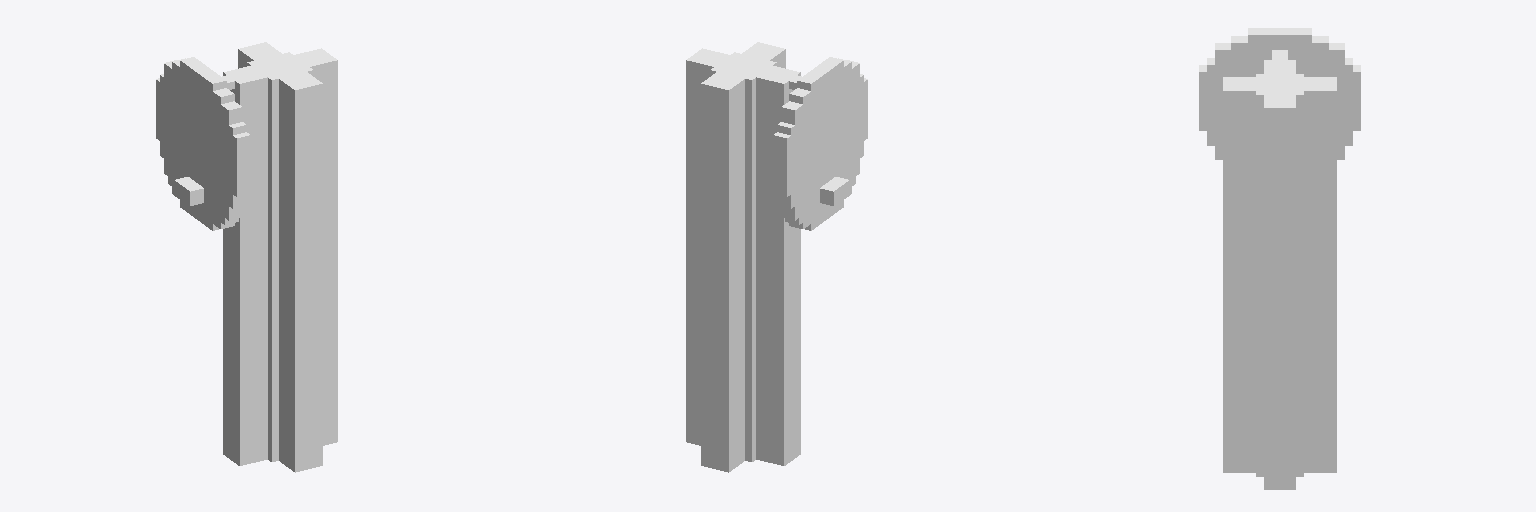
File: pressuredevice.obj
The picture shows the model from 3 angles: view 1: azimuth 30°, elevation 25°; view 2: azimuth 150°, elevation 25°; view 3: azimuth 270°, elevation 25°; orthographic projection.
Visible parts, largest first — view 1: object 1; view 2: object 1; view 3: object 1.
Part boxes in pixels (x1,y1,x2,y2): object 1: (156, 42, 337, 472); object 1: (686, 42, 867, 472); object 1: (1199, 28, 1360, 489).
Bounding box in the file's own units: 2.1 × 5.4 × 2.